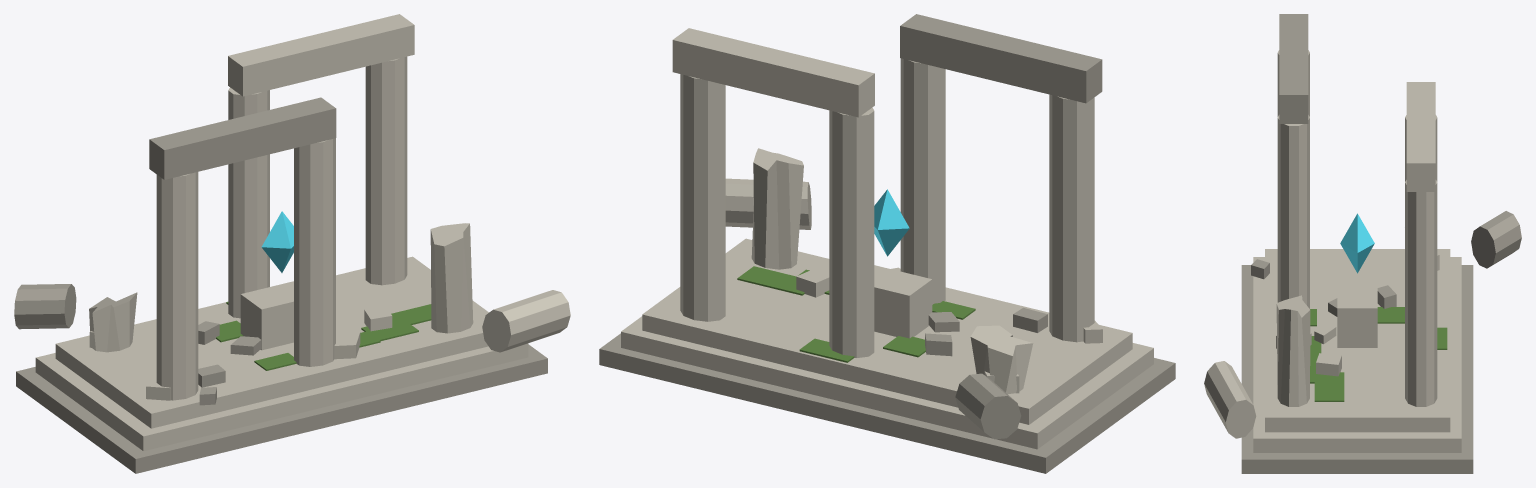
Rendered from temple_ruins.glb.
3 renders of one model, left to right at view 1: azimuth 30°, elevation 25°; view 2: azimuth 150°, elevation 25°; view 3: azimuth 270°, elevation 25°, orthographic. The views are drawn at different scales.
Parts seen in each view (by area): view 1: temple_ruins-col, temple_ruins_detail; view 2: temple_ruins-col, temple_ruins_detail; view 3: temple_ruins-col, temple_ruins_detail.
Boxes of the visible parts, x1=… form: temple_ruins-col: x1=16, y1=14, x2=547, y2=473; temple_ruins_detail: x1=14, y1=211, x2=570, y2=405; temple_ruins-col: x1=599, y1=14, x2=1175, y2=473; temple_ruins_detail: x1=725, y1=178, x2=1102, y2=439; temple_ruins-col: x1=1241, y1=14, x2=1473, y2=473; temple_ruins_detail: x1=1204, y1=211, x2=1521, y2=438.
Bounding box in the file's own units: 6 × 4 × 4.
